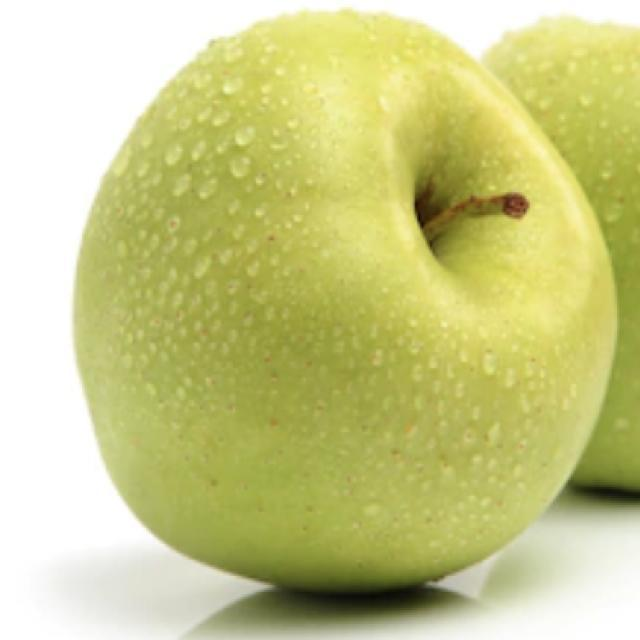Fresh Apple: (72, 27, 623, 623)
